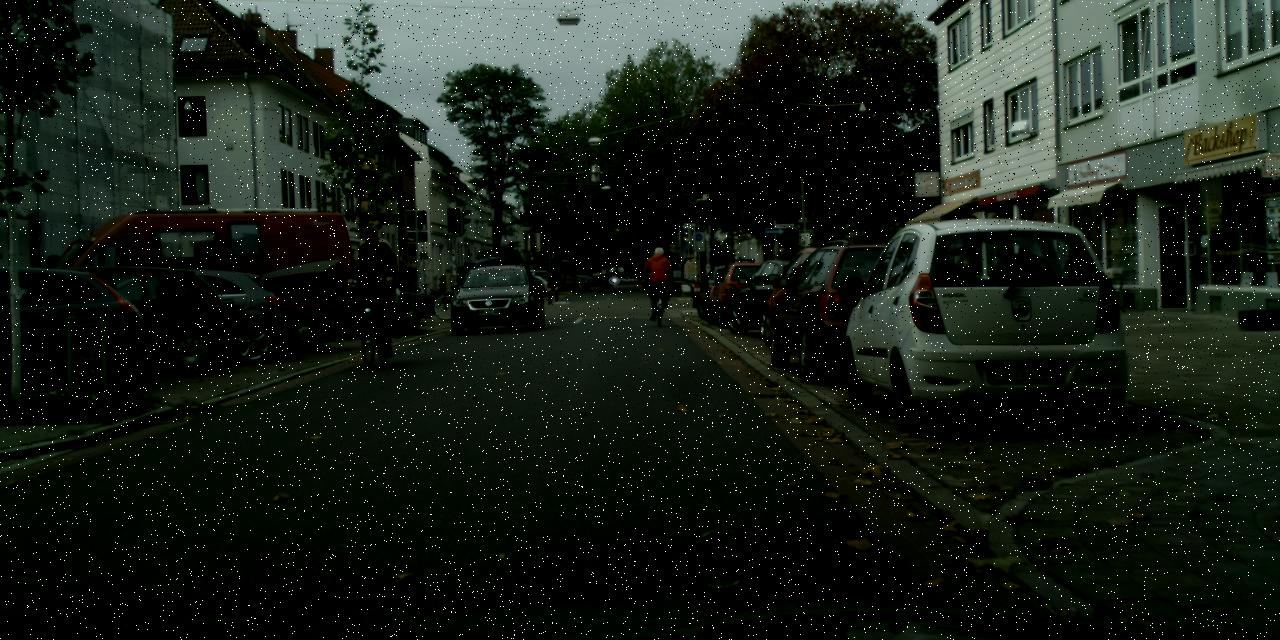ped: (350, 224, 400, 347), (645, 247, 672, 312), (603, 268, 613, 292)
